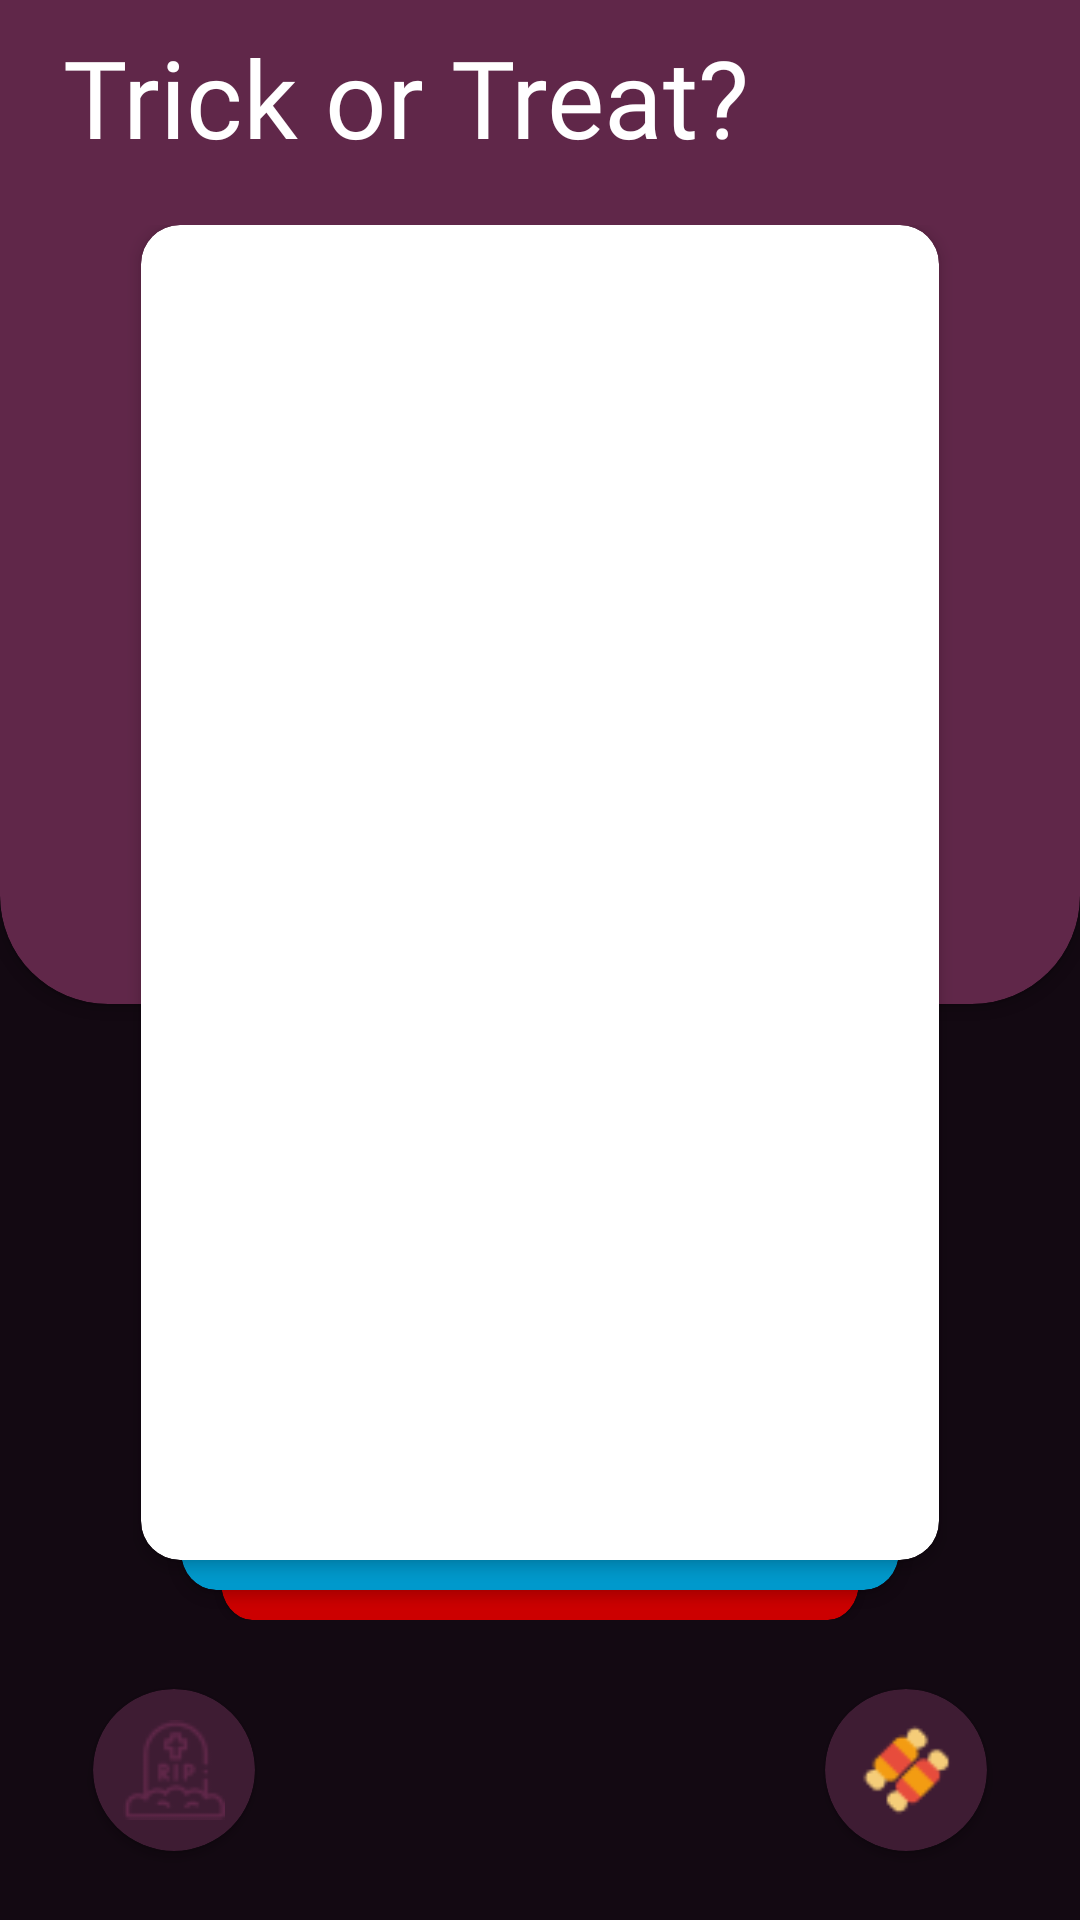

Screen size 1080w x 1920h. Icon name, then its box in pixels as (x1, y1, x2, y2):
Candy: (863, 1727, 949, 1813)
